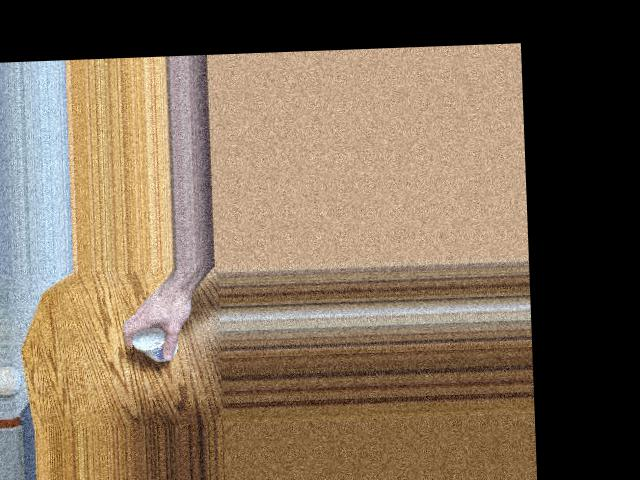cotage: (135, 320, 182, 362)
